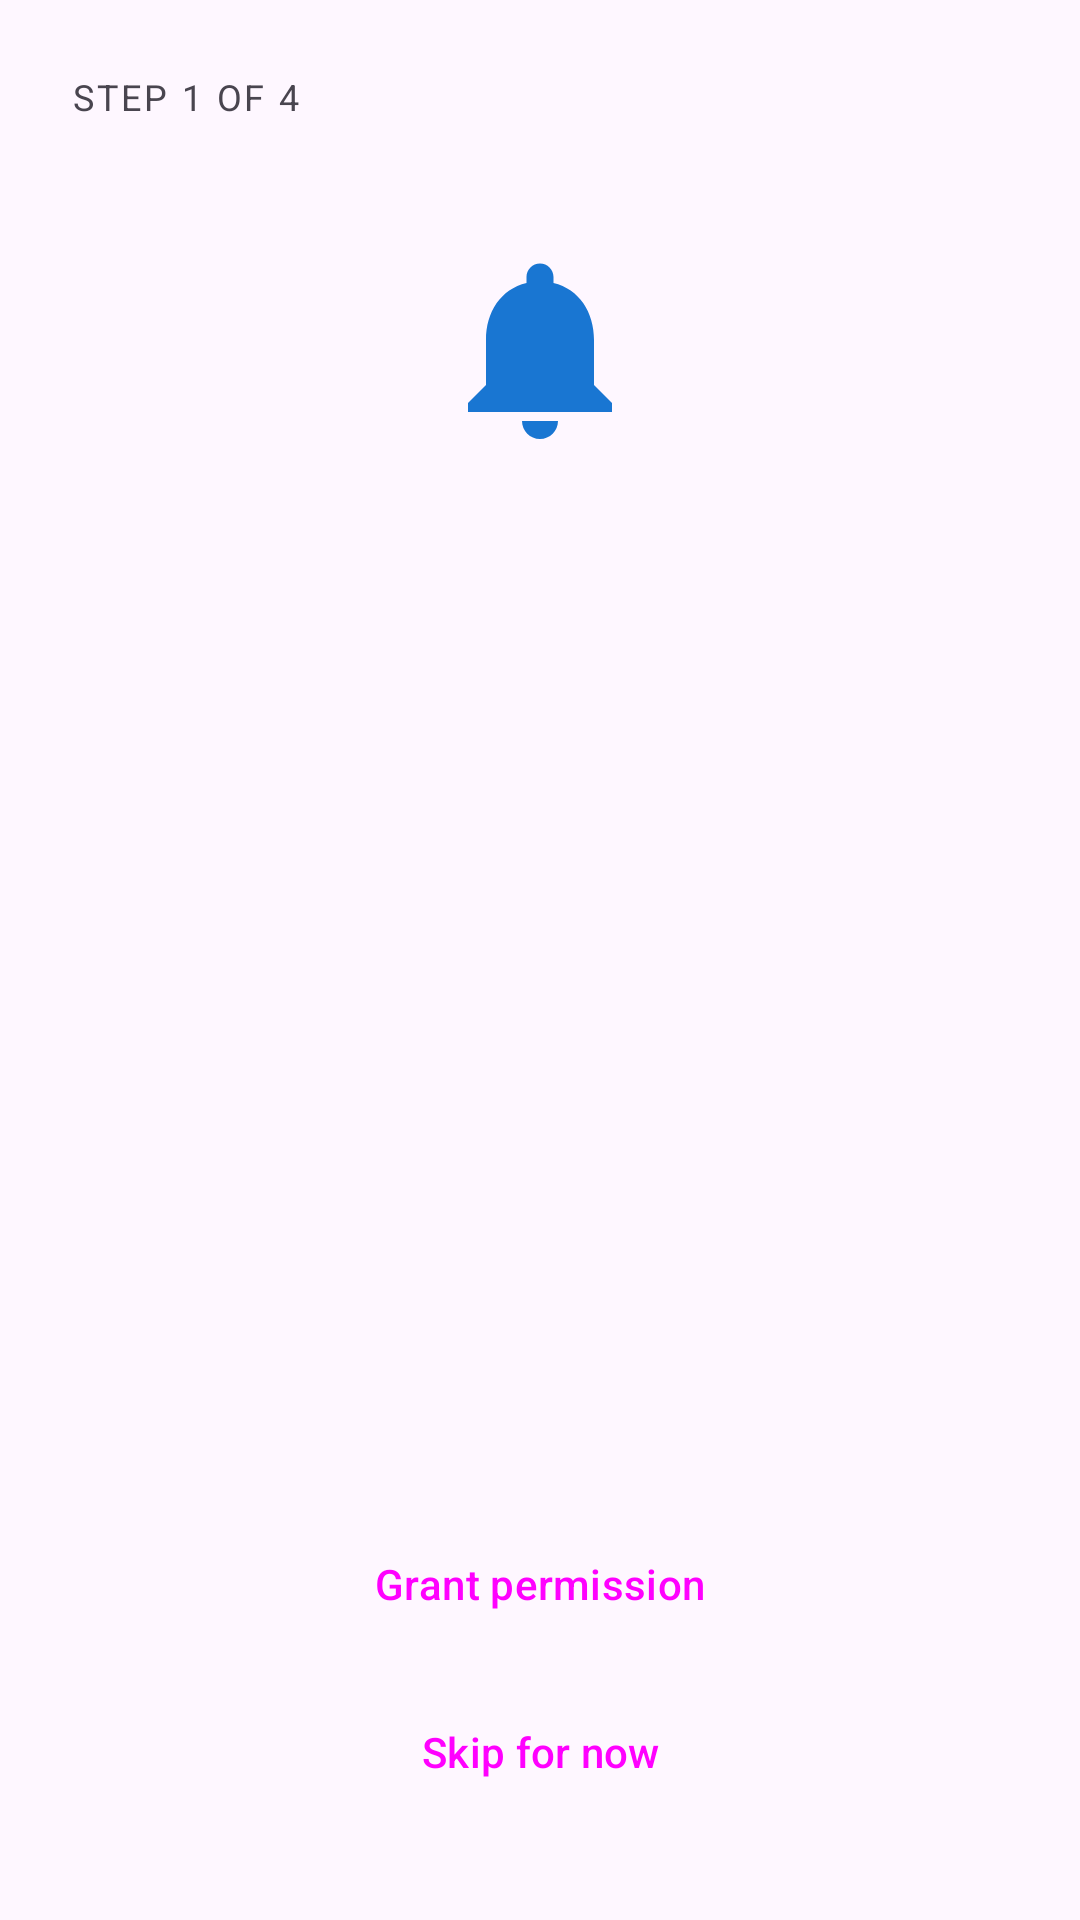

Named icons in this screenshot (1080×1920) and their bounding boxes, rect(x1, y1, x2, y2):
notification: rect(468, 263, 612, 439)
